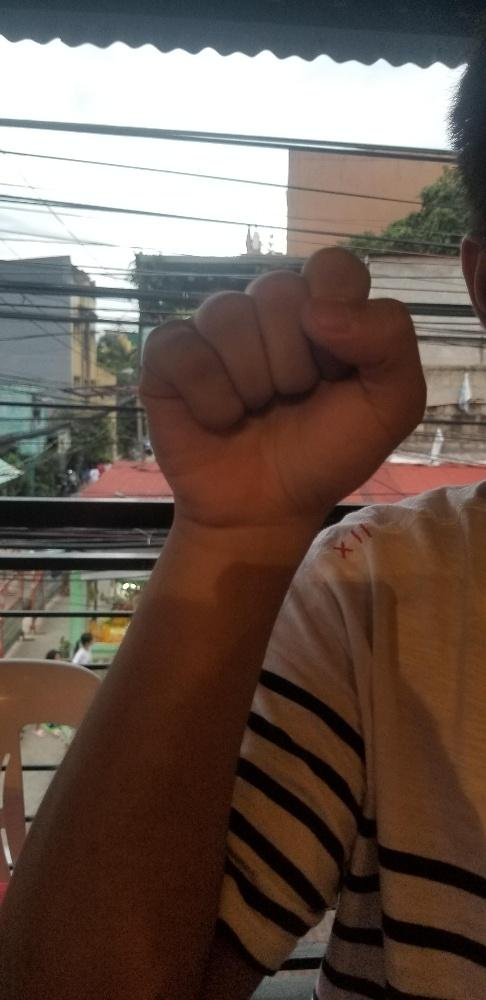s: (138, 244, 428, 527)
